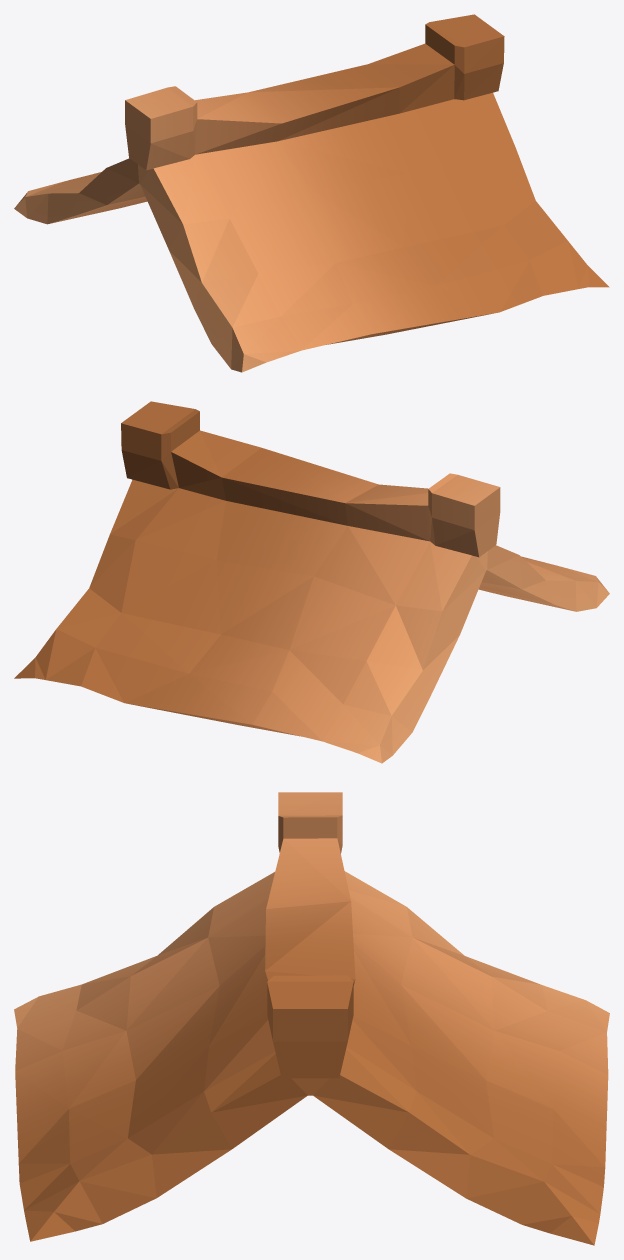
File: House_4x4_RoofOnly.gltf
3 views of the same model, one above another, from view 1: azimuth 30°, elevation 25°; view 2: azimuth 150°, elevation 25°; view 3: azimuth 270°, elevation 25° (orthographic). The views are drawn at different scales.
Parts seen in each view (by area): view 1: House_4x4_RoofOnly; view 2: House_4x4_RoofOnly; view 3: House_4x4_RoofOnly.
Part boxes in pixels (x1,y1,x2,y2): House_4x4_RoofOnly: (14, 14, 609, 372); House_4x4_RoofOnly: (14, 401, 609, 763); House_4x4_RoofOnly: (14, 792, 609, 1245).
Size of the model in its own units: 5.04 by 2.49 by 5.63.
Materials: 1 (1 with a texture image).
